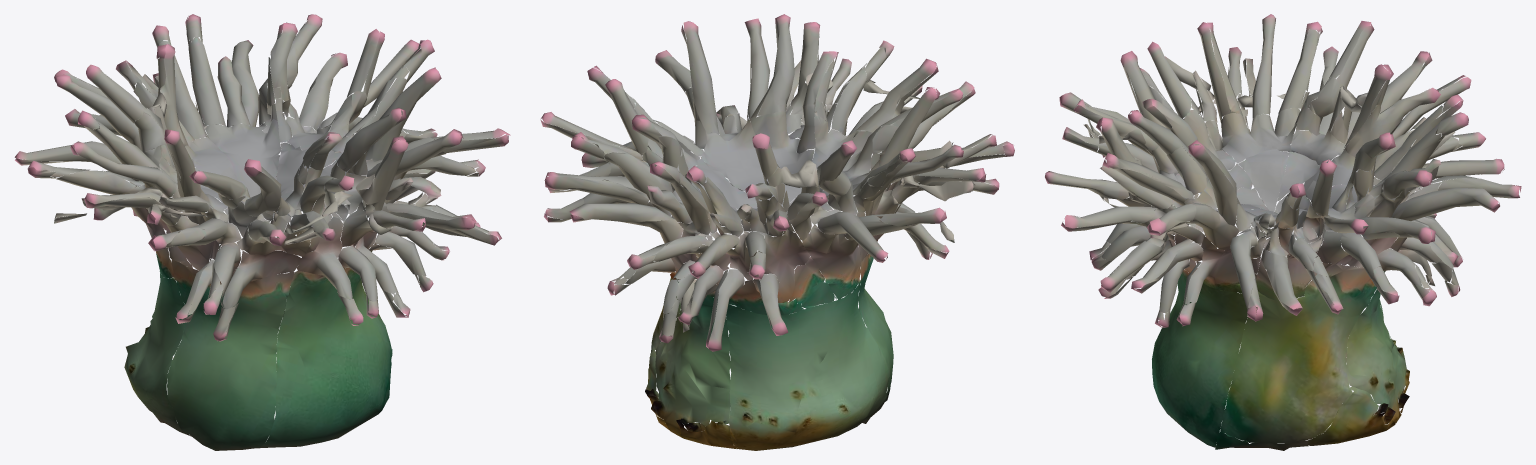
The model's file is anemone.glb.
3 renders of one model, left to right at view 1: azimuth 30°, elevation 25°; view 2: azimuth 150°, elevation 25°; view 3: azimuth 270°, elevation 25°, orthographic. The views are drawn at different scales.
Parts seen in each view (by area): view 1: tripo_node_3b250363-ceef-4cdb-b983-4bfd8288688d; view 2: tripo_node_3b250363-ceef-4cdb-b983-4bfd8288688d; view 3: tripo_node_3b250363-ceef-4cdb-b983-4bfd8288688d.
Boxes of the visible parts, x1,y1,x2,y2 form: tripo_node_3b250363-ceef-4cdb-b983-4bfd8288688d: [14, 14, 510, 450]; tripo_node_3b250363-ceef-4cdb-b983-4bfd8288688d: [540, 14, 1014, 450]; tripo_node_3b250363-ceef-4cdb-b983-4bfd8288688d: [1045, 14, 1521, 450].
Bounding box in the file's own units: 0.9812 × 0.7656 × 1.
Materials: 1 (1 with a texture image).
